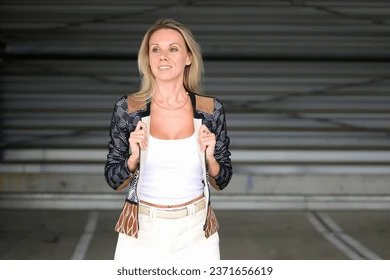height_frame: (101, 17, 237, 263)
hip_frame: (122, 212, 216, 225)
shoulder_frame: (119, 97, 222, 109)
waist_frame: (131, 183, 209, 189)
